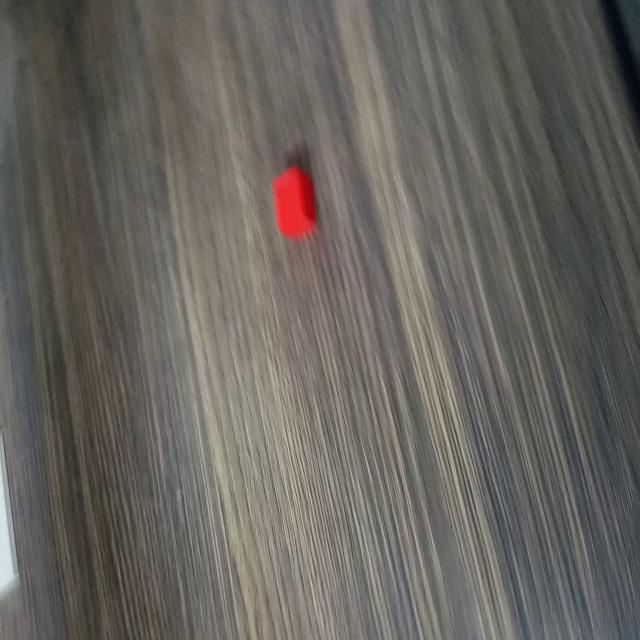cube: (270, 163, 319, 243)
